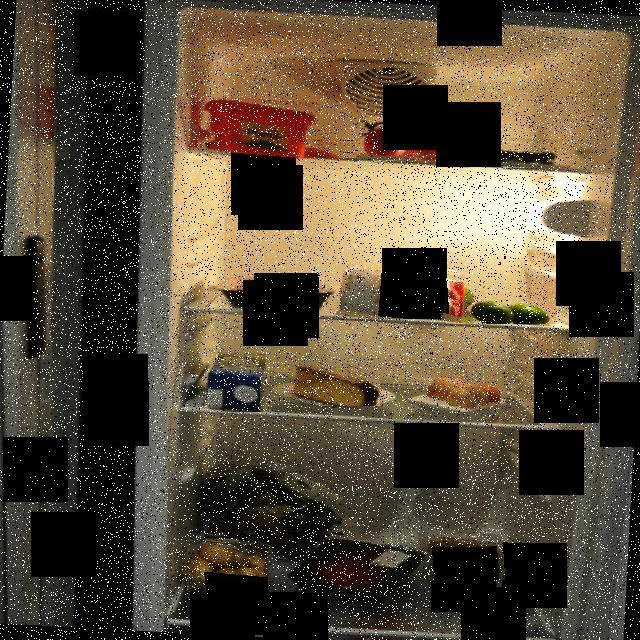beef: (286, 533, 430, 608)
blueberries: (467, 132, 570, 170)
butter: (198, 92, 320, 156)
carrot: (201, 130, 356, 158)
cheese: (286, 362, 380, 406)
eggs: (424, 370, 507, 412)
ground_beef: (214, 274, 340, 314)
lime: (438, 280, 556, 324)
milk: (206, 350, 270, 412)
potato: (182, 539, 268, 598)
shrimp: (422, 534, 508, 581)
spinach: (198, 462, 343, 562)
sugar: (333, 262, 471, 320)
tomato: (354, 114, 464, 164)
